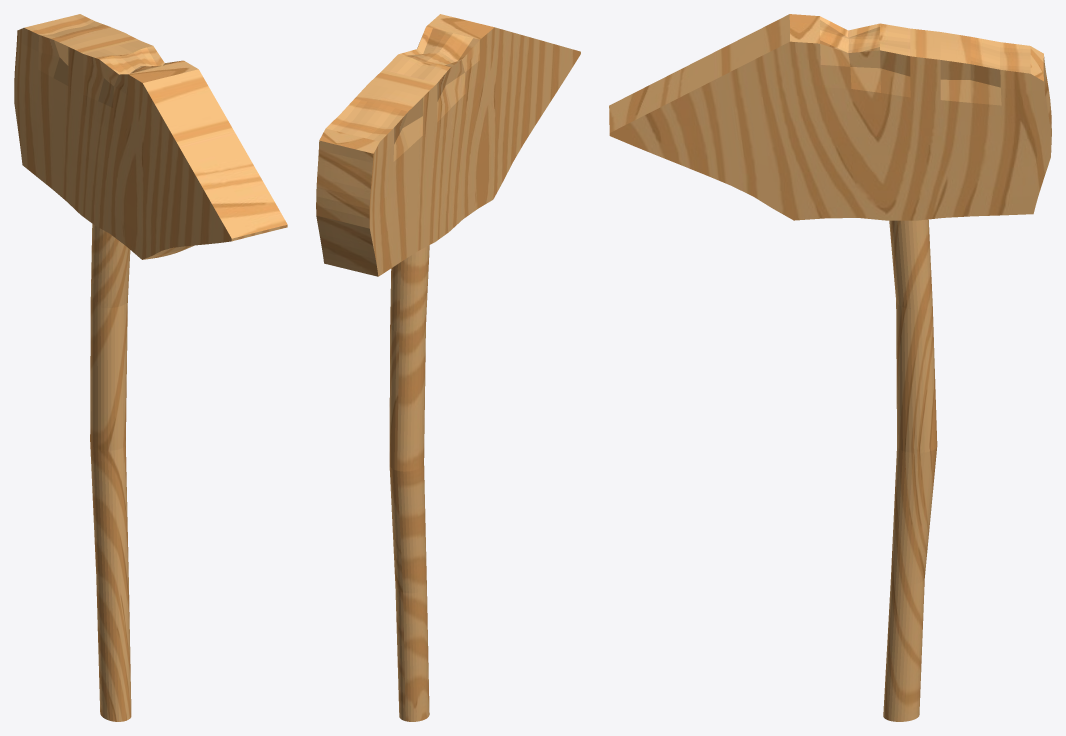
Rendered from cartel.fbx.
3 views of the same model, side by side, from view 1: azimuth 30°, elevation 25°; view 2: azimuth 150°, elevation 25°; view 3: azimuth 270°, elevation 25° (orthographic). The views are drawn at different scales.
Visible parts, largest first — view 1: Cube, Cylinder; view 2: Cube, Cylinder; view 3: Cube, Cylinder.
Boxes of the visible parts, x1,y1,x2,y2 form: Cube: (14,14,287,259); Cylinder: (90,224,131,721); Cube: (316,14,580,276); Cylinder: (389,245,429,721); Cube: (609,14,1051,220); Cylinder: (883,219,937,721).
Size of the model in its own units: 79.86 by 913 by 532.
